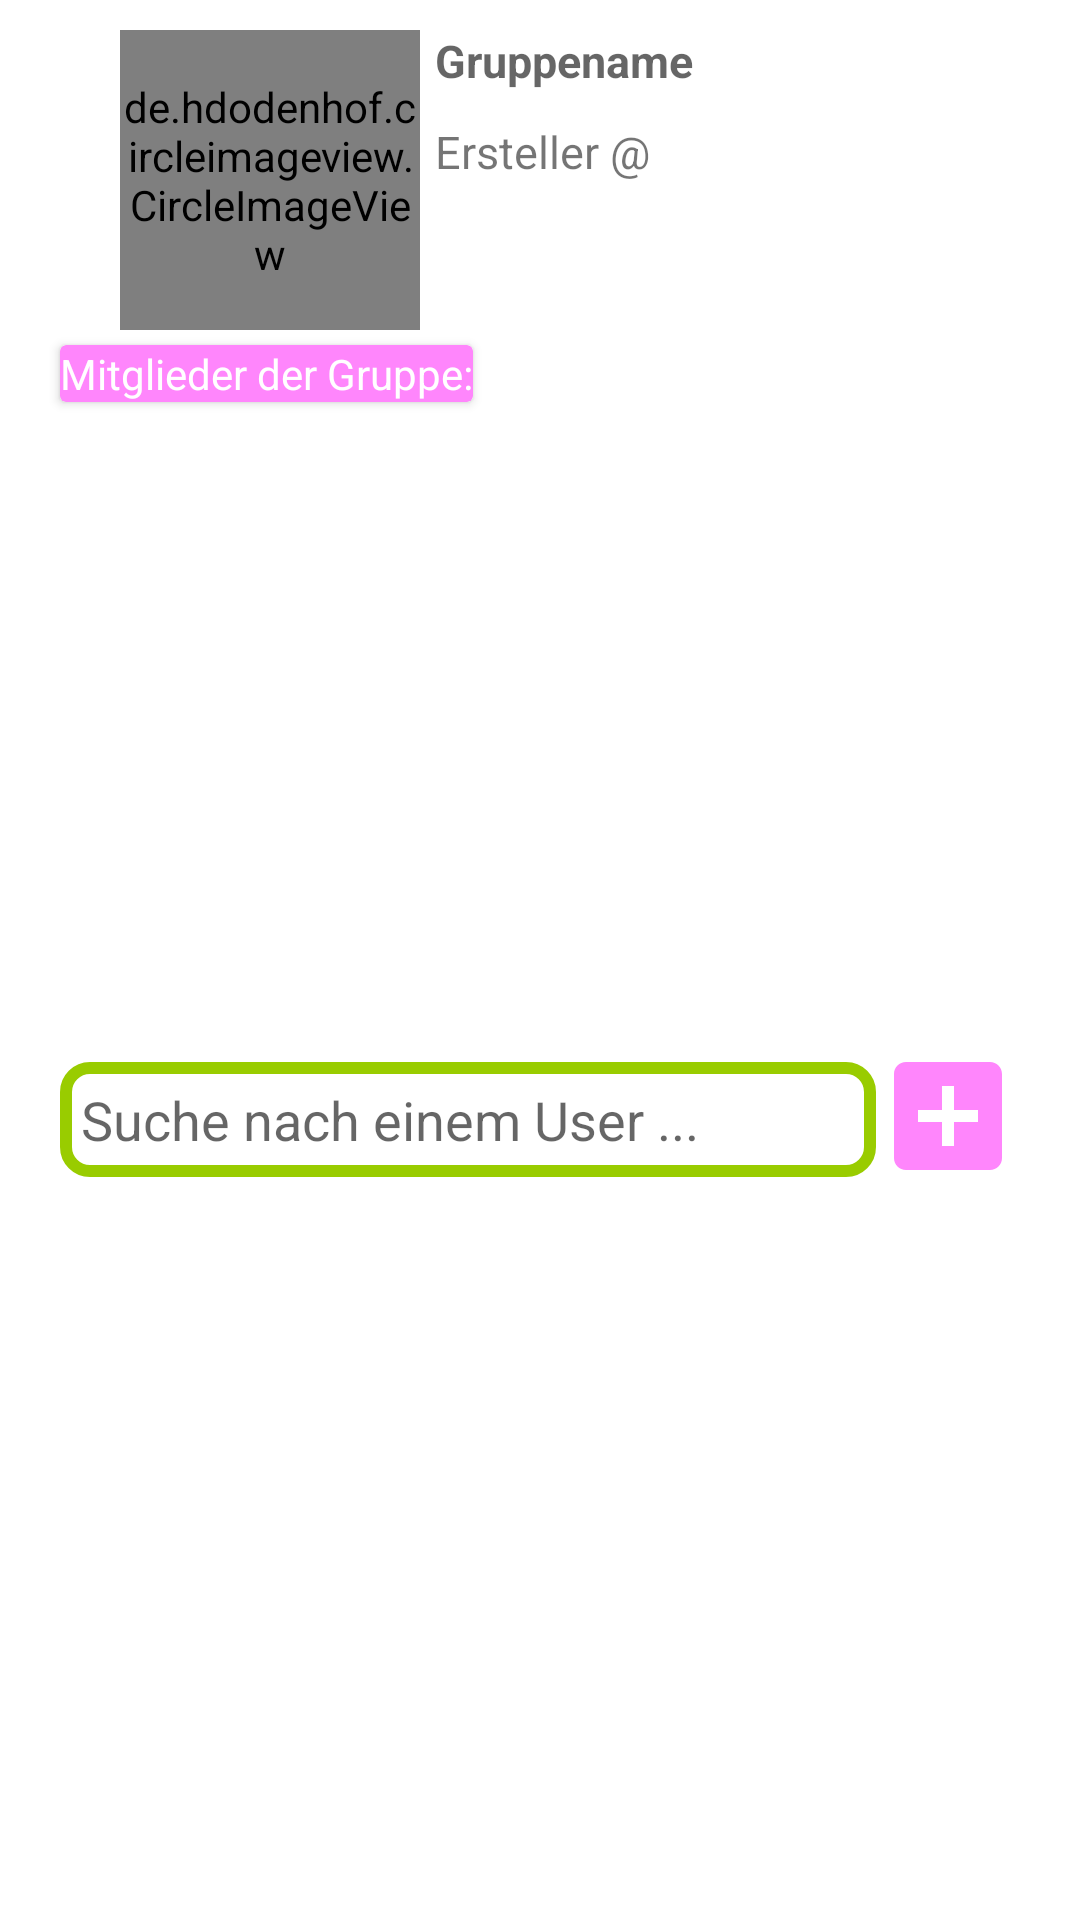

Named icons in this screenshot (1080px x 1920px) and their centers, [x,y]:
add box: [948,1116]
